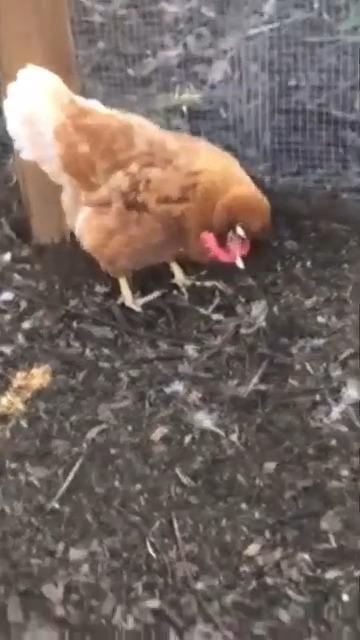AbNormal: (15, 67, 273, 313)
